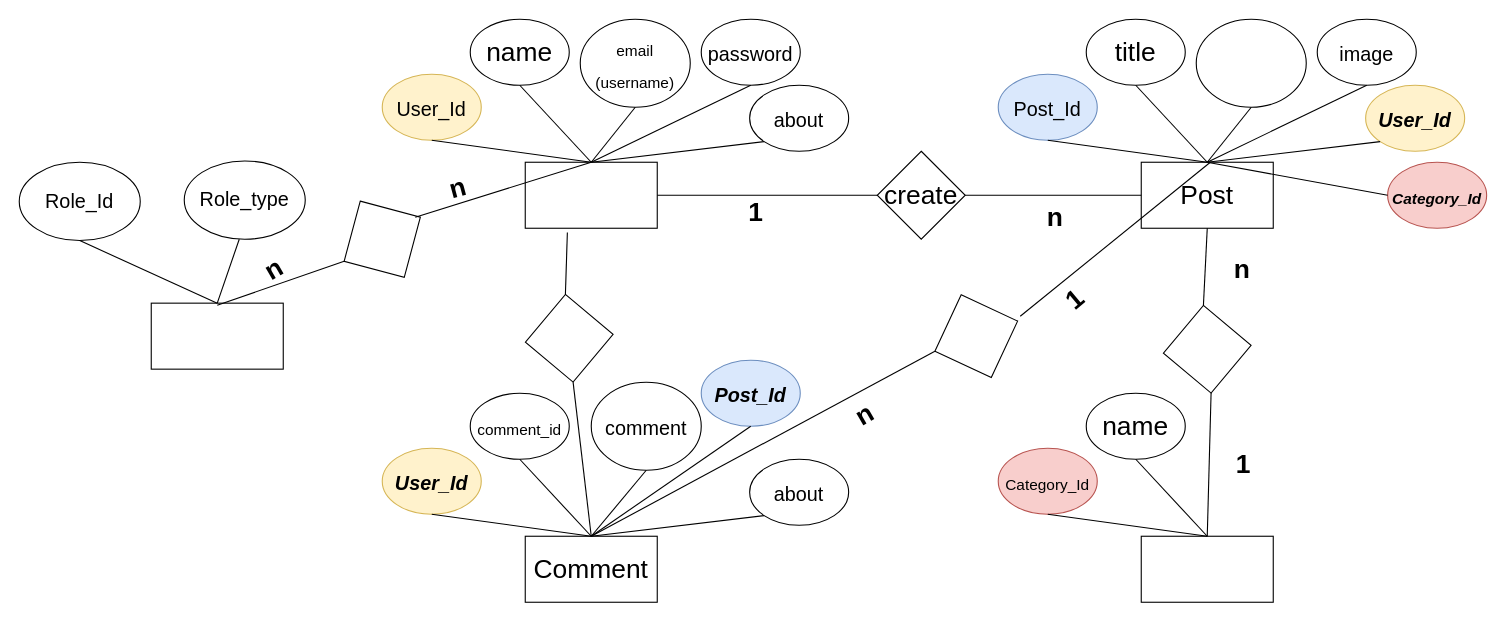
This 1506x622 diagram has some shape labels left out. The shapes that lost their labels are listed below. From the top down, each one's centre as x and y in pixels, then its label:
[1250,62]: content
[590,194]: User
[216,335]: Role
[568,337]: Do
[976,336]: has
[1206,348]: contains
[1206,568]: Category
